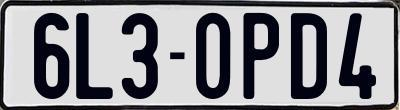0: (194, 11, 230, 97)
3: (119, 13, 156, 101)
4: (337, 10, 377, 99)
6: (34, 11, 69, 103)
D: (291, 11, 329, 100)
L: (75, 10, 117, 100)
P: (243, 11, 282, 99)
